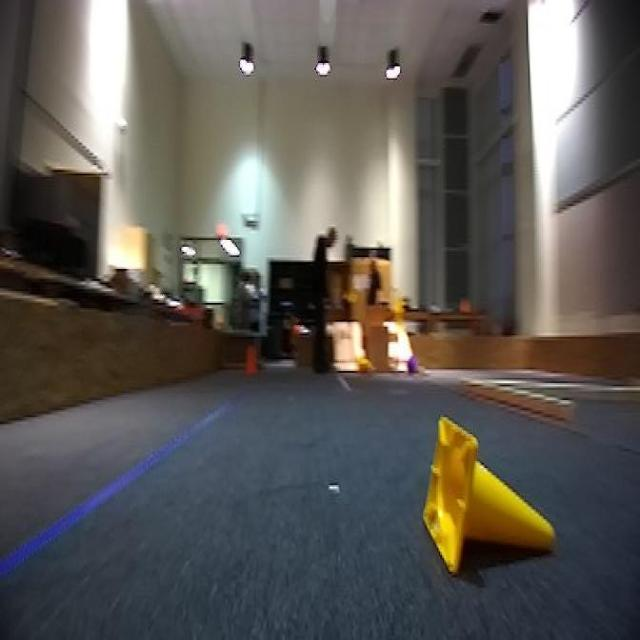frc_cone: (430, 414, 564, 562), (355, 358, 370, 376)
frc_cube: (407, 352, 419, 374)
